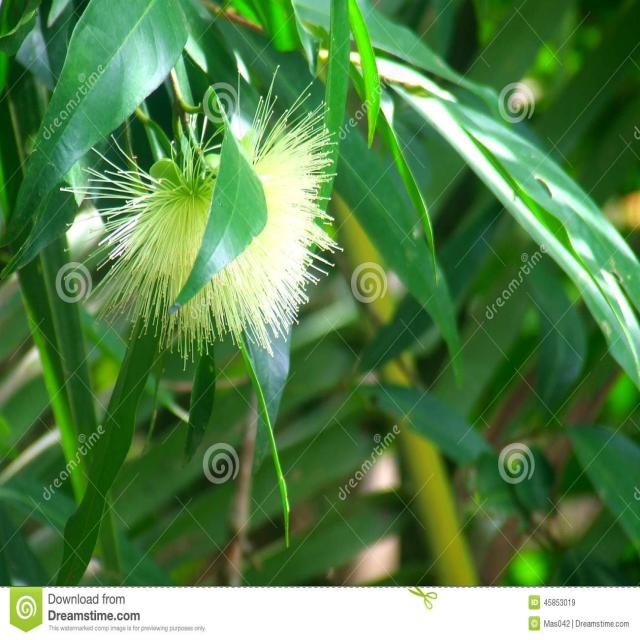Medicinal-Rose Apple: (5, 0, 640, 529)
